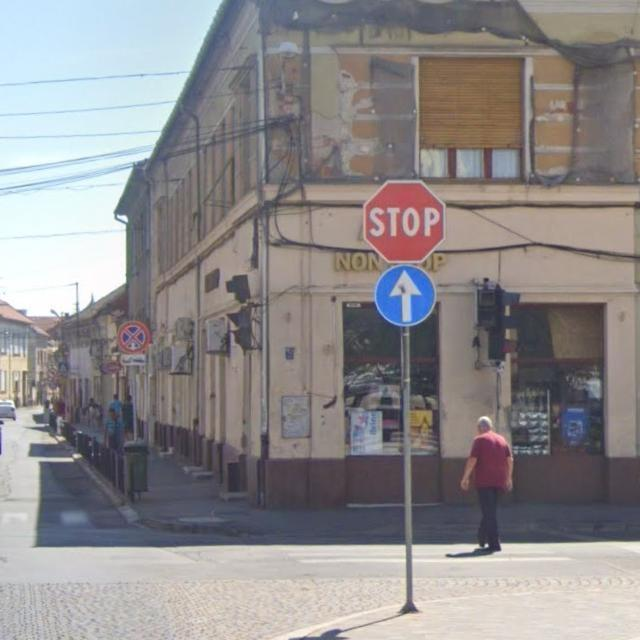forb_waiting: (118, 321, 150, 354)
prio_stop: (362, 179, 445, 266)
